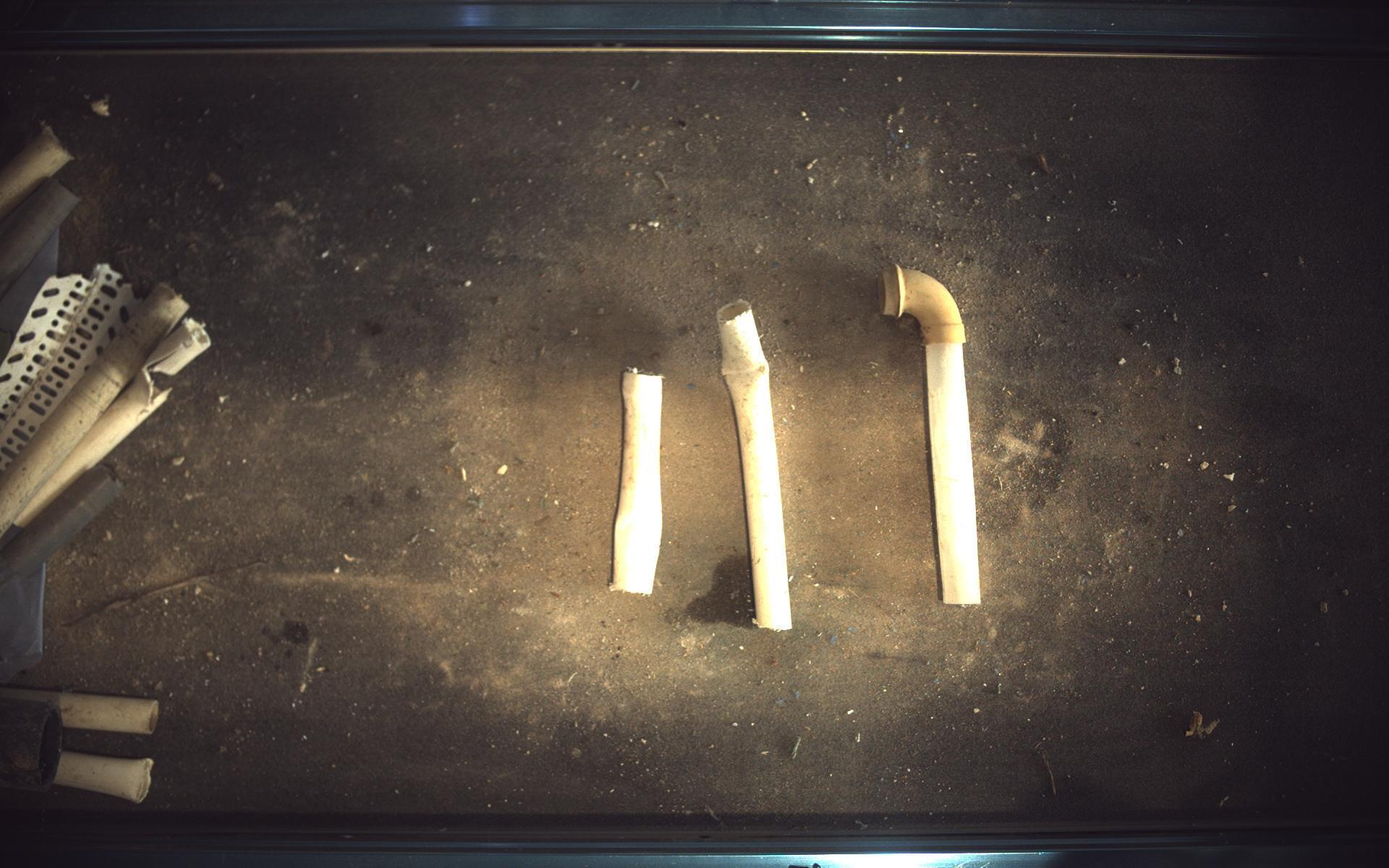pipes: (1, 282, 188, 535), (1, 283, 187, 535), (881, 264, 983, 605), (719, 299, 793, 631), (1, 465, 122, 587), (611, 368, 663, 595), (1, 689, 158, 736), (1, 177, 79, 260), (1, 698, 61, 793), (52, 752, 153, 805), (1, 124, 71, 184)
plastic: (1, 263, 138, 475)
